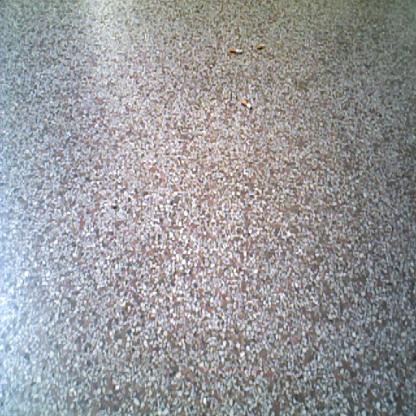dirty: (239, 98, 253, 112), (228, 46, 243, 54), (255, 42, 266, 51)
